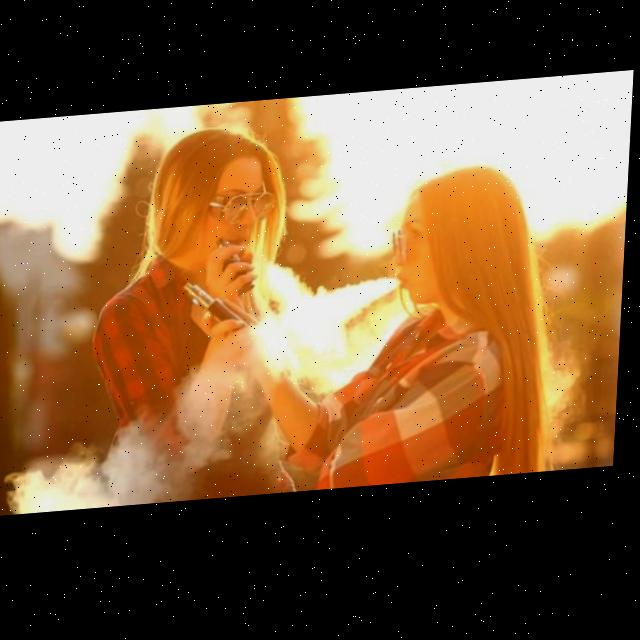vape: (185, 282, 253, 338), (217, 240, 260, 300)
